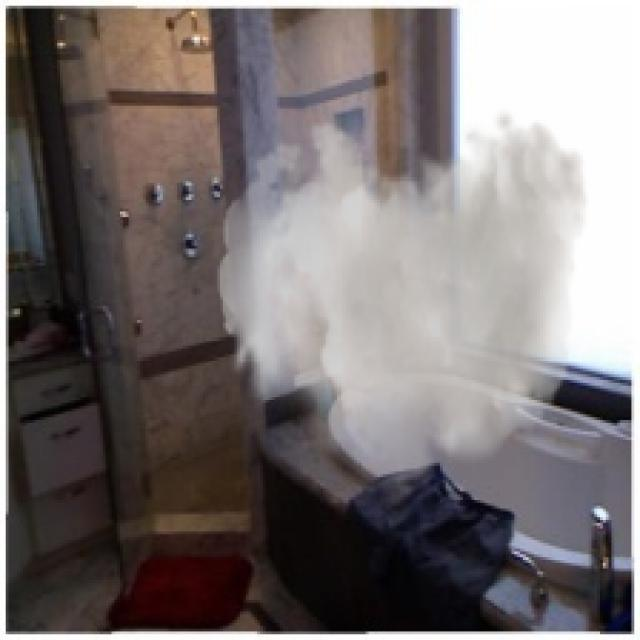Smoke: (217, 106, 589, 514)
